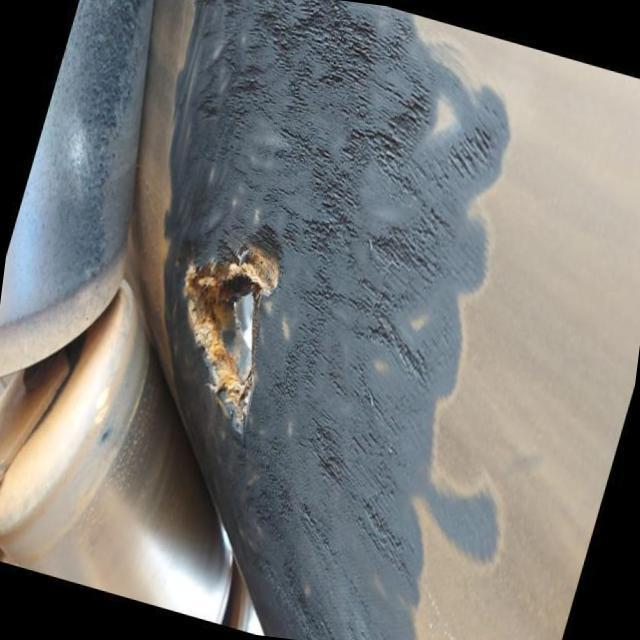Hole: (174, 226, 286, 439)
Wear: (166, 0, 503, 640)
